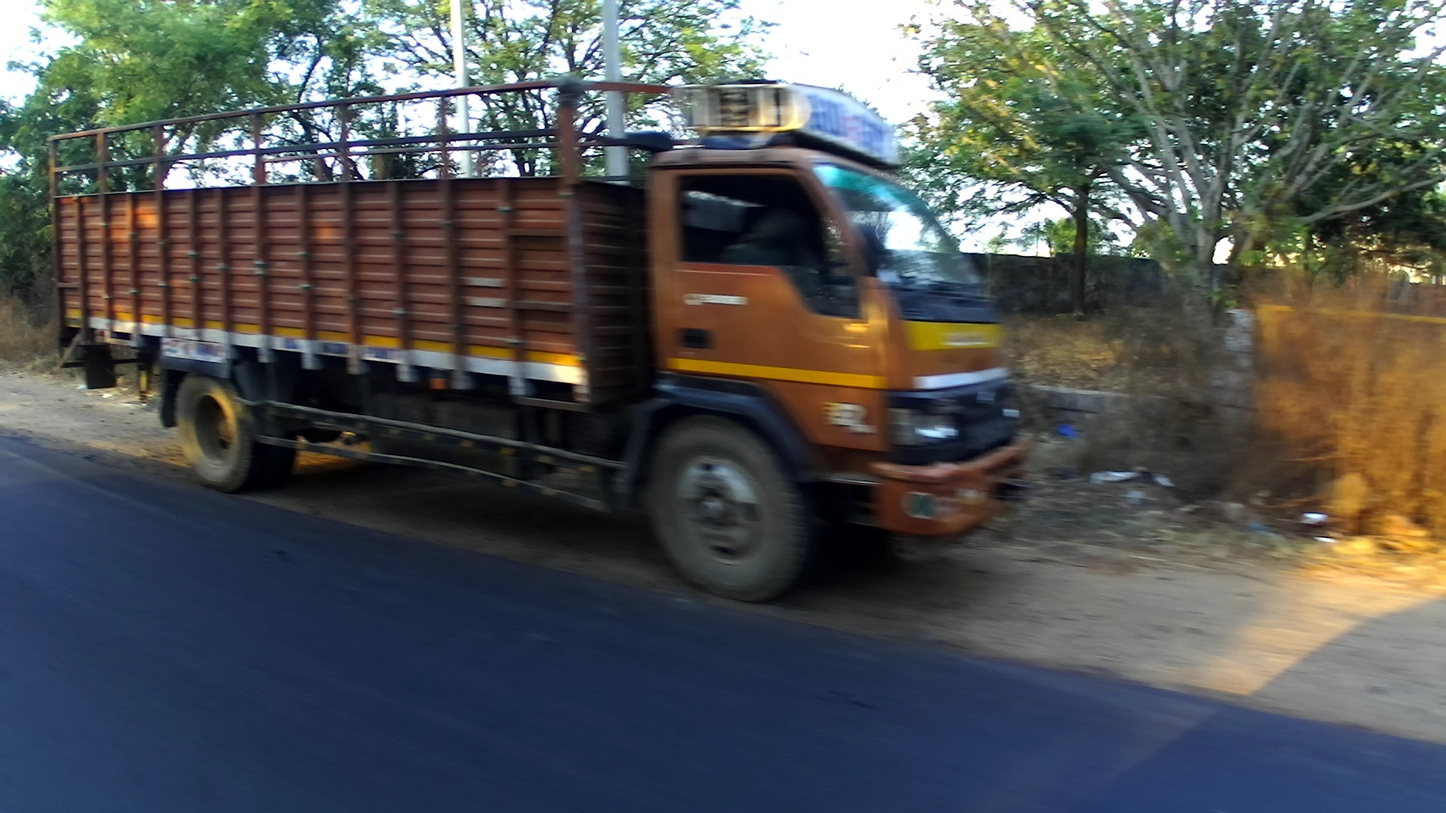truck: (47, 75, 1031, 609)
